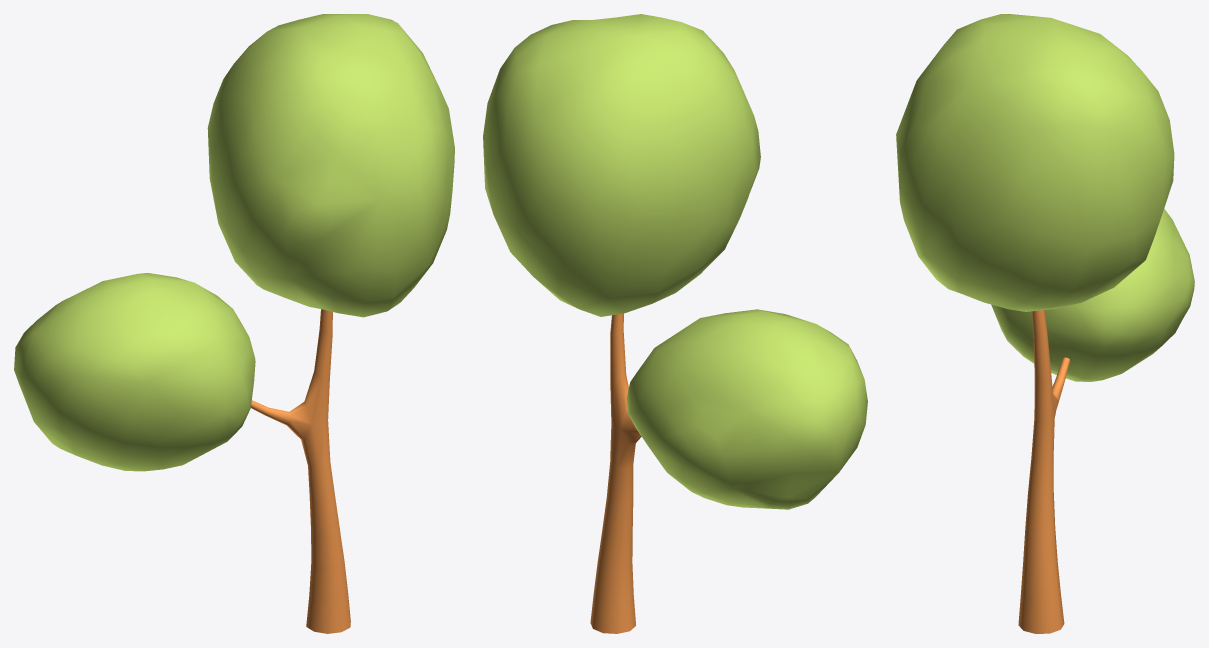
The model's file is Tree_G.fbx.
3 views of the same model, side by side, from view 1: azimuth 30°, elevation 25°; view 2: azimuth 150°, elevation 25°; view 3: azimuth 270°, elevation 25° (orthographic).
Parts seen in each view (by area): view 1: Oak_Tree_m_09; view 2: Oak_Tree_m_09; view 3: Oak_Tree_m_09.
Boxes of the visible parts, x1,y1,x2,y2 form: Oak_Tree_m_09: [14, 14, 454, 633]; Oak_Tree_m_09: [483, 14, 867, 633]; Oak_Tree_m_09: [896, 14, 1194, 633].
Bounding box in the file's own units: 494 × 737 × 336.
